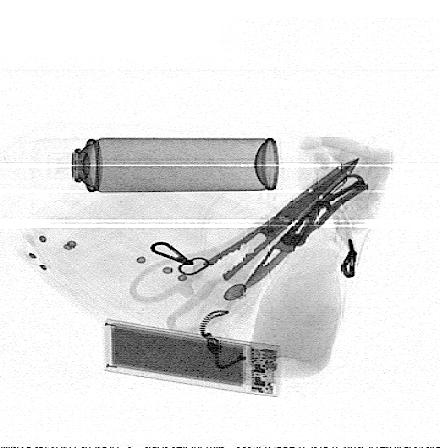Knife: (241, 173, 372, 288)
Powerbank: (104, 317, 284, 400)
Scissors: (129, 158, 359, 338)
Sprayer: (35, 138, 281, 193)
